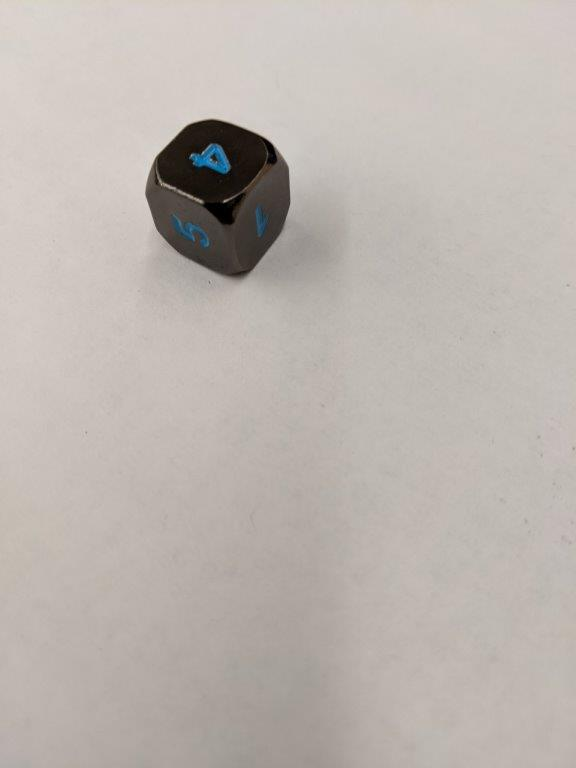d6-4: (145, 119, 291, 277)
